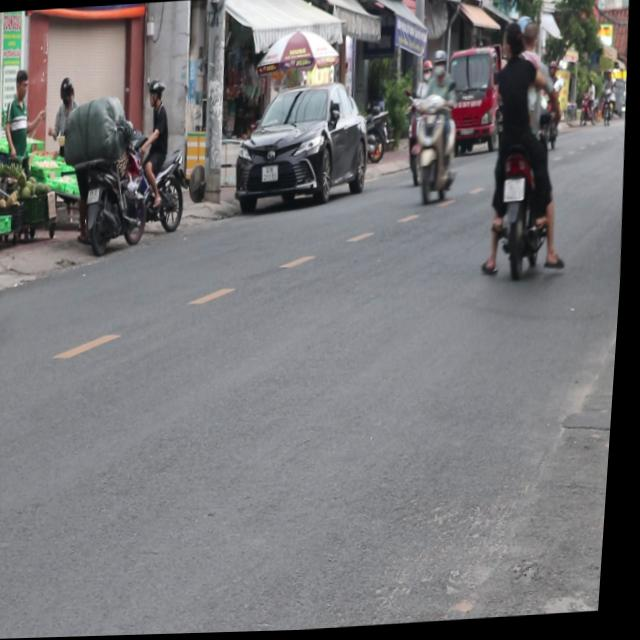helmet: (514, 16, 538, 55), (147, 76, 165, 107), (430, 49, 447, 80), (419, 57, 432, 81)
licenseplate: (475, 13, 573, 283), (399, 48, 463, 207)
motorcyclist: (499, 20, 523, 62), (516, 16, 537, 55)
nohelmet: (504, 179, 526, 204)
